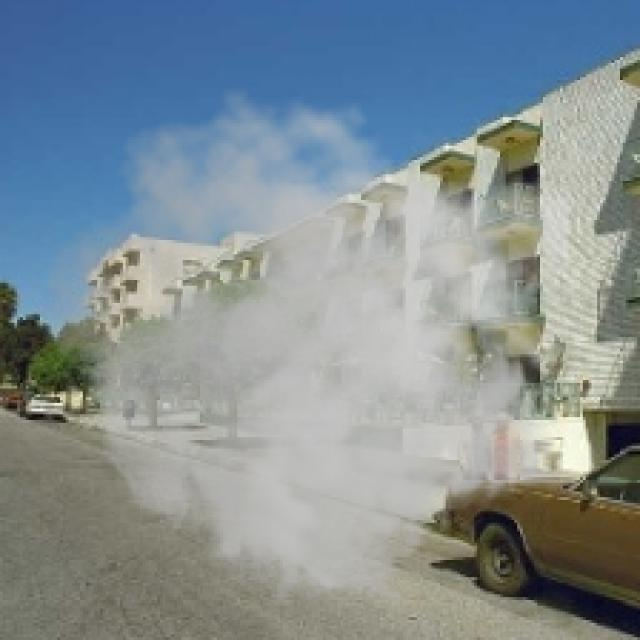smoke: (43, 86, 568, 614)
